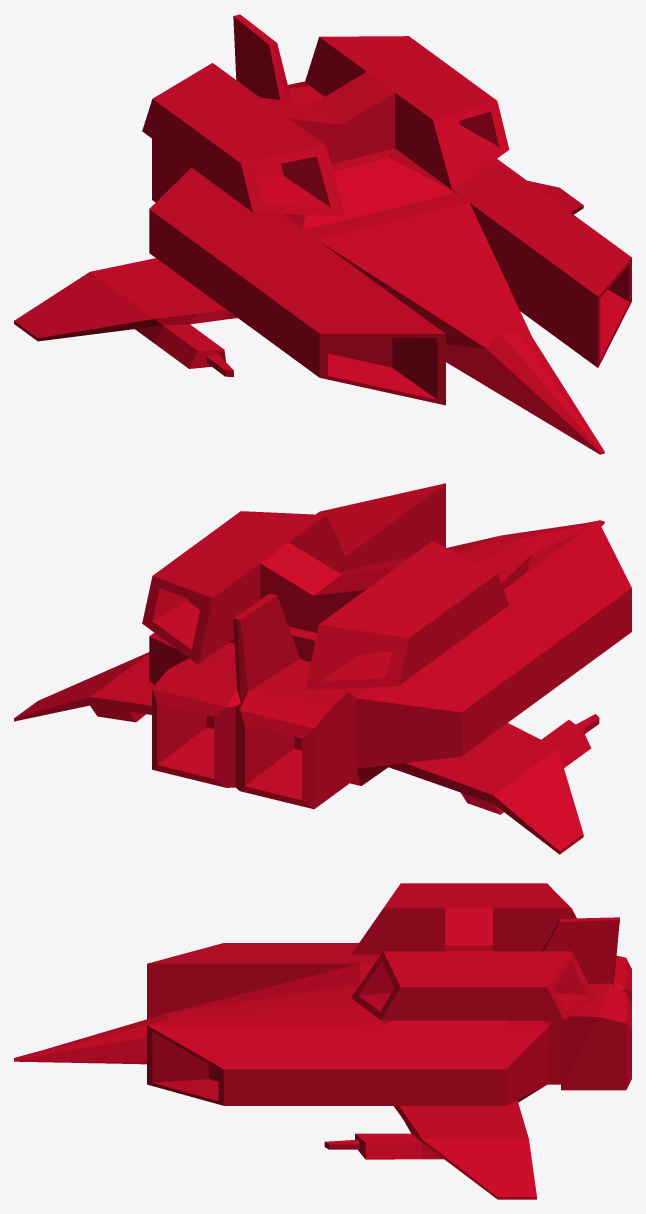
Rendered from pilot_low.fbx.
3 renders of one model, top to bottom at view 1: azimuth 30°, elevation 25°; view 2: azimuth 150°, elevation 25°; view 3: azimuth 270°, elevation 25°, orthographic. The views are drawn at different scales.
Parts seen in each view (by area): view 1: Cube; view 2: Cube; view 3: Cube.
Boxes of the visible parts, x1,y1,x2,y2 form: Cube: (14,14,631,454); Cube: (14,483,631,854); Cube: (14,883,631,1199).
Bounding box in the file's own units: 716 × 258 × 847.
